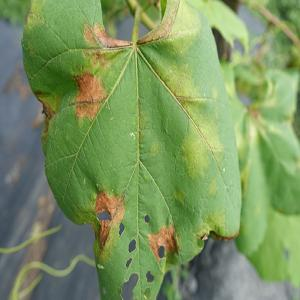Folha: (21, 0, 242, 299)
Fungo: (93, 189, 125, 251), (72, 69, 108, 121), (148, 222, 178, 262), (92, 22, 132, 48), (97, 218, 111, 250), (82, 23, 96, 45), (97, 262, 104, 270)
